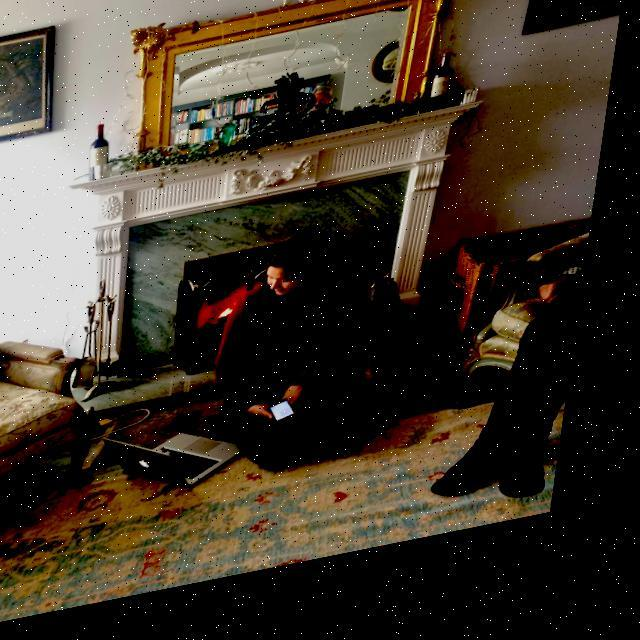Fire: (228, 304, 252, 332)
